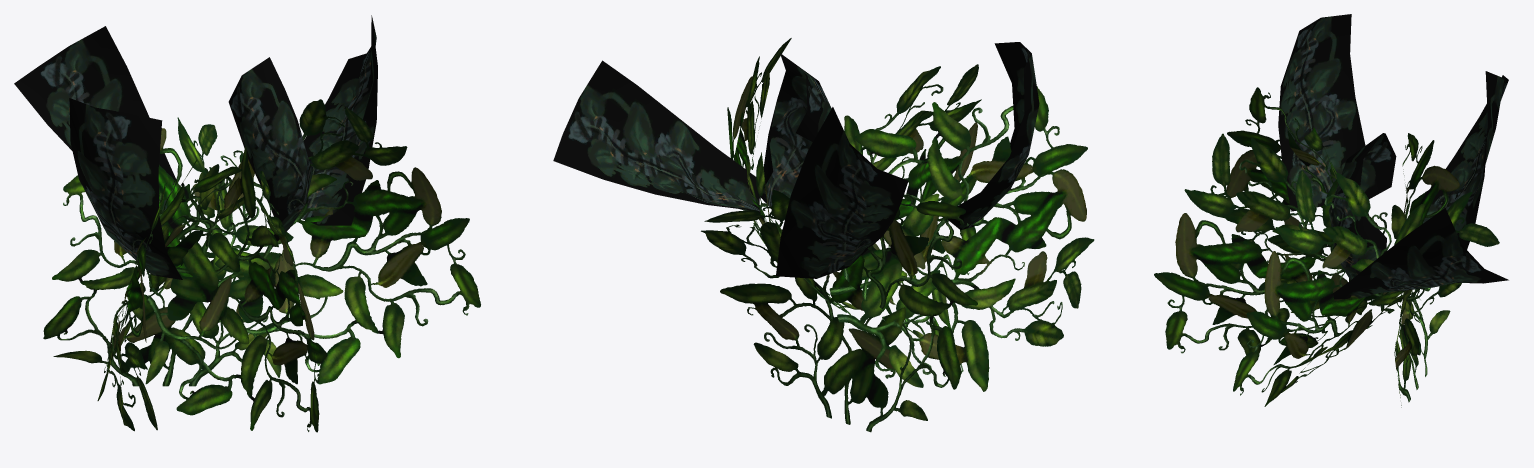
File: PLANT_THICKBUSH_ROASTMUTTON.fbx
The picture shows the model from 3 angles, left to right: view 1: azimuth 30°, elevation 25°; view 2: azimuth 150°, elevation 25°; view 3: azimuth 270°, elevation 25°; orthographic projection. The views are drawn at different scales.
Visible parts, largest first — view 1: PLANT_THICKBUSH_ROASTMUTTON; view 2: PLANT_THICKBUSH_ROASTMUTTON; view 3: PLANT_THICKBUSH_ROASTMUTTON.
Part boxes in pixels (x1,y1,x2,y2): PLANT_THICKBUSH_ROASTMUTTON: (14,15,480,432); PLANT_THICKBUSH_ROASTMUTTON: (553,38,1094,432); PLANT_THICKBUSH_ROASTMUTTON: (1154,14,1508,407).
Bounding box in the file's own units: 10986 × 9946 × 10942.
2 materials, 2 textured.
